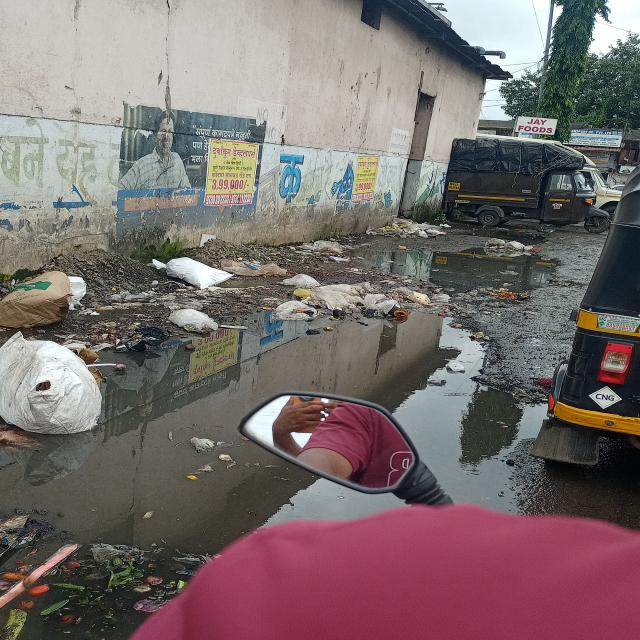garbage: (4, 249, 232, 419), (248, 225, 472, 318)
